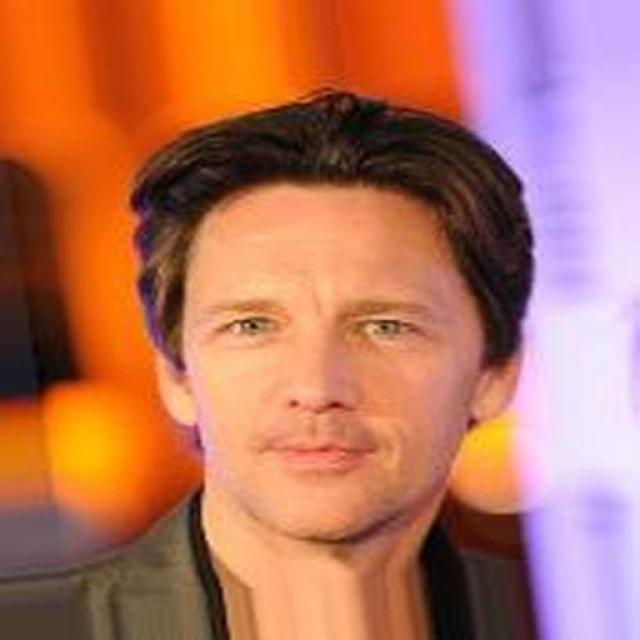bareface: (193, 183, 474, 516)
